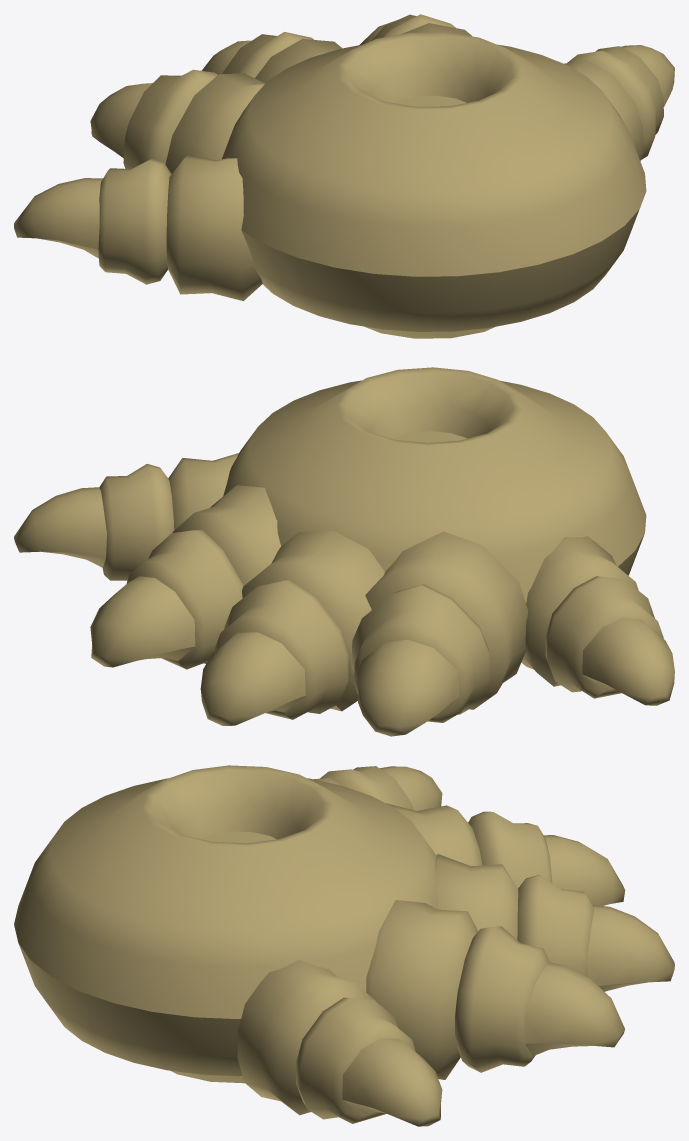
Rendered from obj_artifact_fossil08.fbx.
The picture shows the model from 3 angles, top to bottom: view 1: azimuth 30°, elevation 25°; view 2: azimuth 150°, elevation 25°; view 3: azimuth 270°, elevation 25°; orthographic projection. The views are drawn at different scales.
Visible parts, largest first — view 1: lod0_obj_artifact_fossil08.001; view 2: lod0_obj_artifact_fossil08.001; view 3: lod0_obj_artifact_fossil08.001.
Part boxes in pixels (x1,y1,x2,y2): lod0_obj_artifact_fossil08.001: [14, 14, 674, 338]; lod0_obj_artifact_fossil08.001: [14, 367, 674, 736]; lod0_obj_artifact_fossil08.001: [14, 765, 674, 1126].
Bounding box in the file's own units: 8.71 × 2.92 × 7.38.
